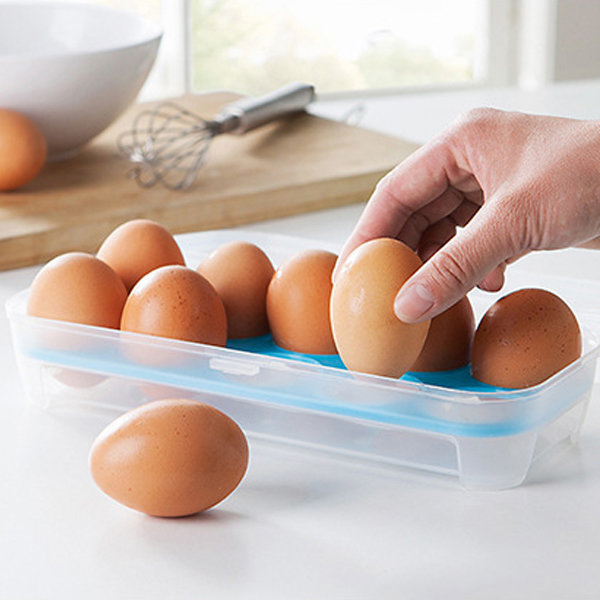egg: (24, 222, 585, 400), (91, 398, 250, 520), (1, 106, 45, 190)
